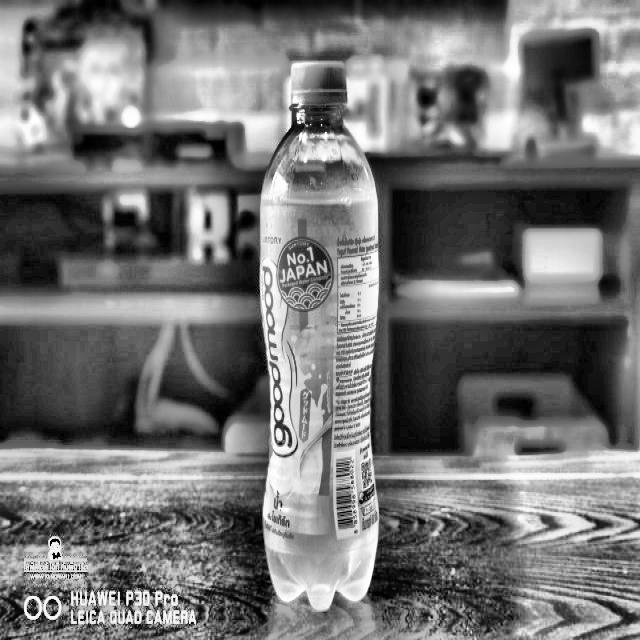waterbottle: (260, 60, 380, 611)
